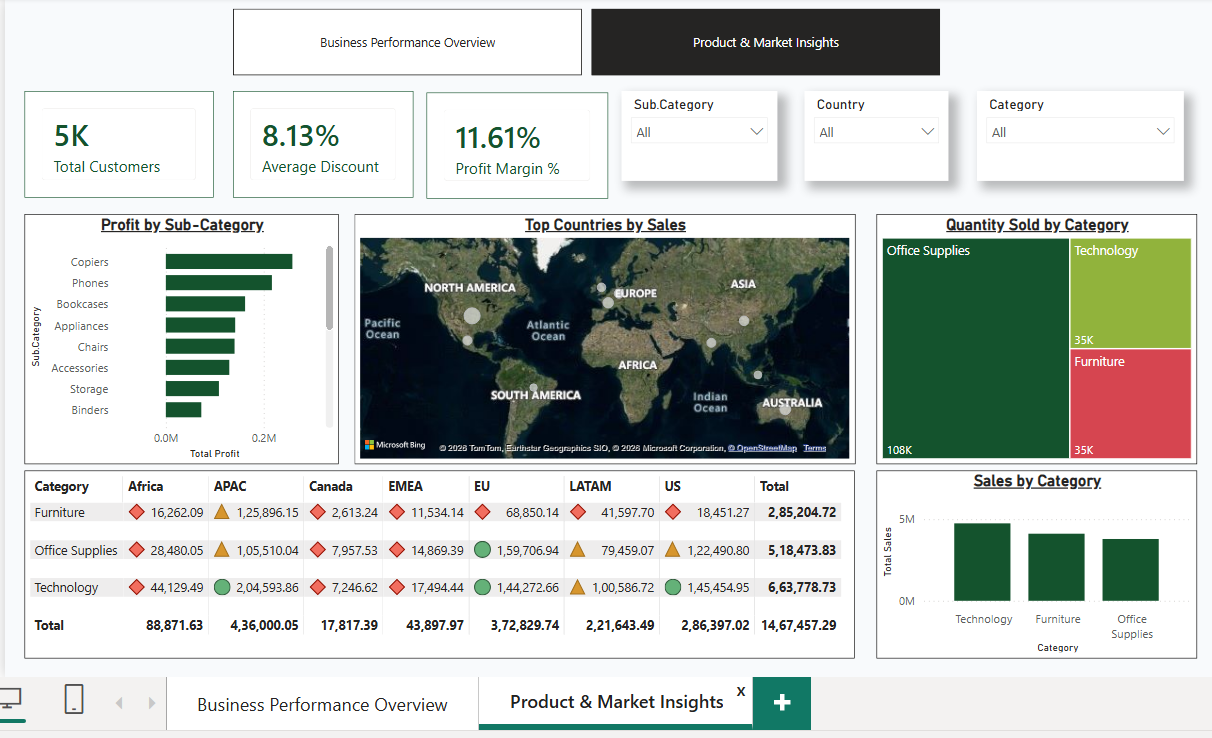

What the dashboard file says about the page in this screenshot:
{"tool":"powerbi","page":{"name":"Product & Market Insights","canvas":[1280,720],"ordinal":1},"visuals":[{"type":"treemap","title":"Quantity Sold by Category","fields":{"Group":["global.Category"],"Values":["Sum(global.Quantity)"]},"box":[924.6,228.3,340,265.6],"z":1},{"type":"pivotTable","fields":{"Rows":["global.Category"],"Columns":["global.Market"],"Values":["Sum(global.Profit)"]},"box":[21,500.3,880.9,199.2],"z":2},{"type":"map","title":"Top Countries by Sales","fields":{"Category":["global.Country"],"Size":["Sum(global.Sales)"]},"box":[370.8,228.3,531.1,265.6],"z":4},{"type":"barChart","title":"Profit by Sub-Category","fields":{"Y":["Sum(global.Profit)"],"Category":["global.Sub.Category"]},"box":[21,228.3,333.6,265.6],"z":6},{"type":"columnChart","title":" Sales by Category","fields":{"Category":["global.Category"],"Y":["Sum(global.Sales)"]},"box":[924.6,500.3,340,199.2],"z":7},{"type":"cardVisual","fields":{"Data":["global.Profit Margin %"]},"box":[447,100.2,192.5,112.9],"z":8},{"type":"cardVisual","fields":{"Data":["global.Average Discount"]},"box":[241.3,98.8,191.1,113.3],"z":9},{"type":"cardVisual","fields":{"Data":["global.Total Customers"]},"box":[21,98.8,200.8,113.3],"z":10},{"type":"slicer","fields":{"Values":["global.Sub.Category"]},"box":[653.7,98.6,165.4,95.4],"z":11},{"type":"slicer","fields":{"Values":["global.Country"]},"box":[847.8,98.6,152.7,95.4],"z":12},{"type":"slicer","fields":{"Values":["global.Category"]},"box":[1030.7,98.6,219.5,95.4],"z":13},{"type":"pageNavigator","box":[241.8,11.1,750.8,71.6],"z":14}]}

Visuals, with their boxes on the page's 1280x720 design canvas (x1, y1, x2, y2). These are canvas units, not pixel positions in the 1212x738 screenshot, which may show the page scaled, cropped or inside an application window:
"Quantity Sold by Category" treemap: 925:228:1265:494
pivotTable - global.Category x global.Market: 21:500:902:700
"Top Countries by Sales" map: 371:228:902:494
"Profit by Sub-Category" barChart: 21:228:355:494
" Sales by Category" columnChart: 925:500:1265:700
cardVisual - global.Profit Margin %: 447:100:640:213
cardVisual - global.Average Discount: 241:99:432:212
cardVisual - global.Total Customers: 21:99:222:212
slicer - global.Sub.Category: 654:99:819:194
slicer - global.Country: 848:99:1000:194
slicer - global.Category: 1031:99:1250:194
pageNavigator: 242:11:993:83
